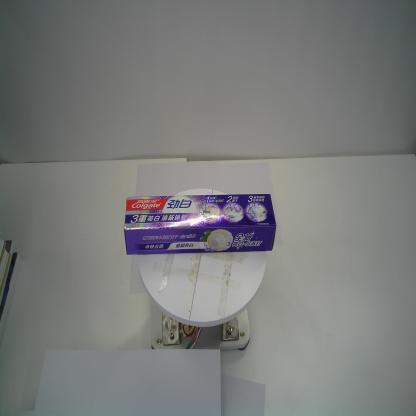Personal Hygiene: (124, 190, 277, 258)
